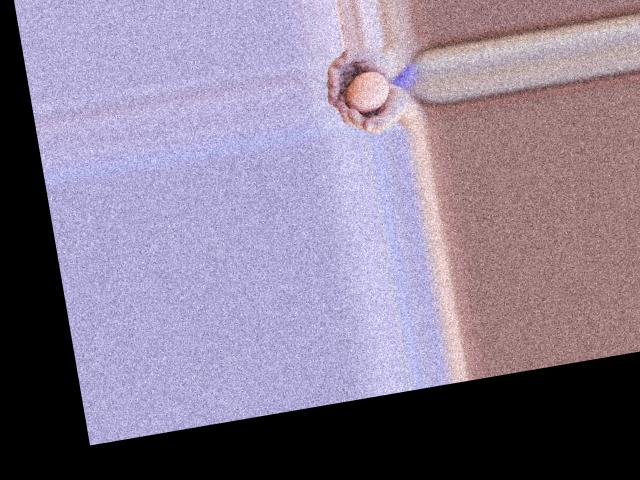egg: (342, 67, 392, 114)
